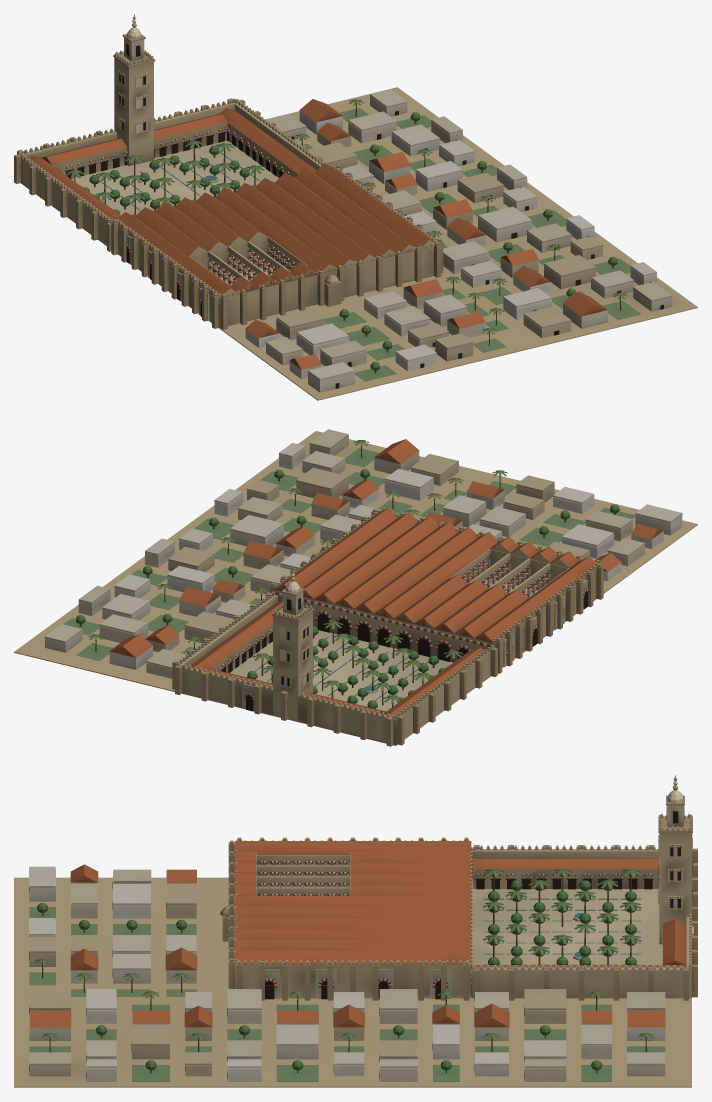
Rendered from mezquita.glb.
3 renders of one model, top to bottom at view 1: azimuth 30°, elevation 25°; view 2: azimuth 150°, elevation 25°; view 3: azimuth 270°, elevation 25°, orthographic. The views are drawn at different scales.
Parts seen in each view (by area): view 1: p0_ground, p1_hall, p2_tower; view 2: p0_ground, p1_hall, p2_tower; view 3: p0_ground, p1_hall, p2_tower.
Part boxes in pixels (box(x1,y1,x2,y2)): p0_ground: box(21, 87, 697, 400); p1_hall: box(14, 98, 443, 329); p2_tower: box(113, 14, 155, 166); p0_ground: box(14, 429, 697, 745); p1_hall: box(172, 507, 603, 746); p2_tower: box(272, 568, 314, 721); p0_ground: box(14, 864, 691, 1087); p1_hall: box(220, 837, 697, 1000); p2_tower: box(658, 775, 692, 944).
Size of the model in its own units: 132 by 47.4 by 180.
